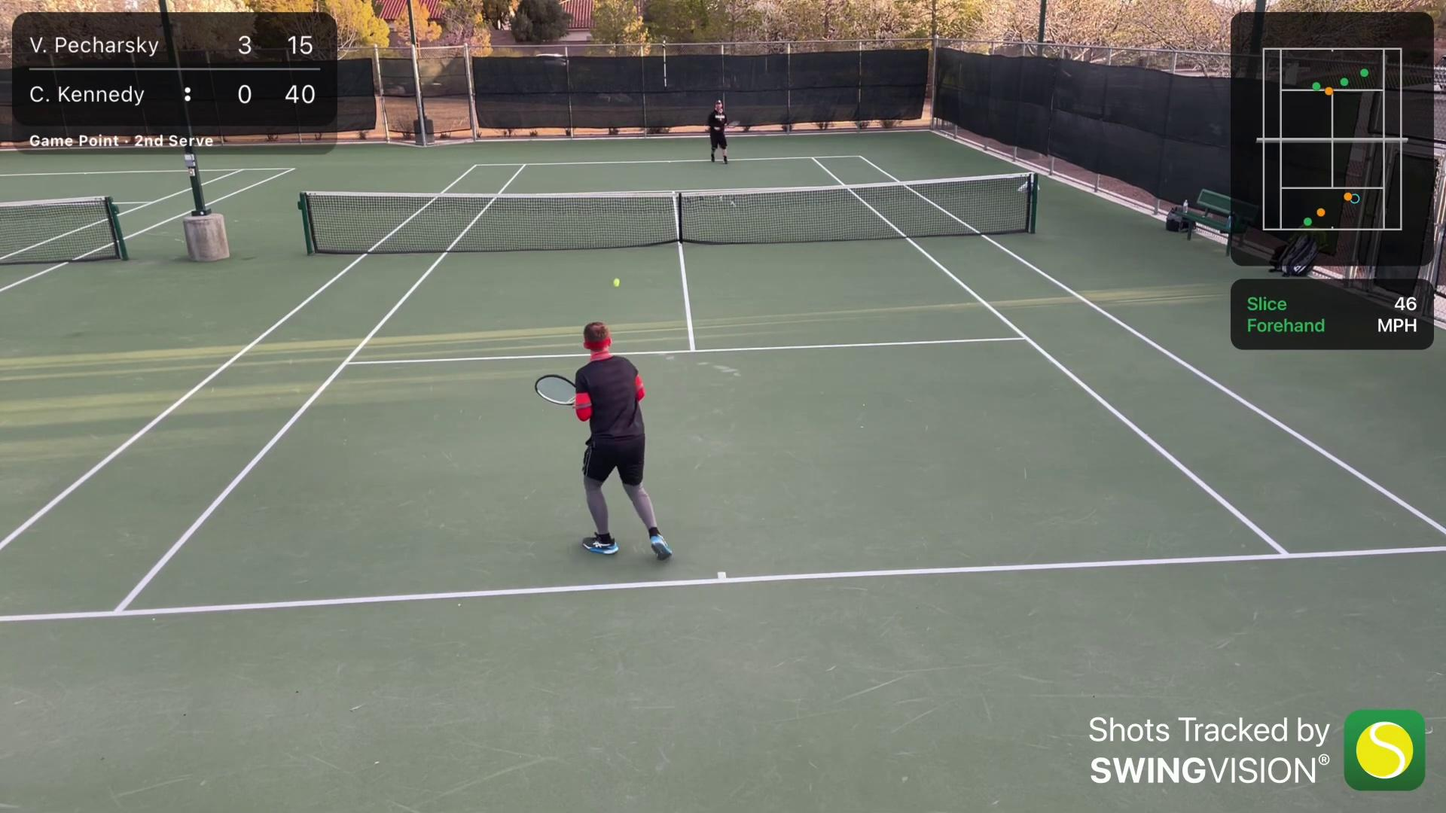ball: (613, 276, 621, 288)
